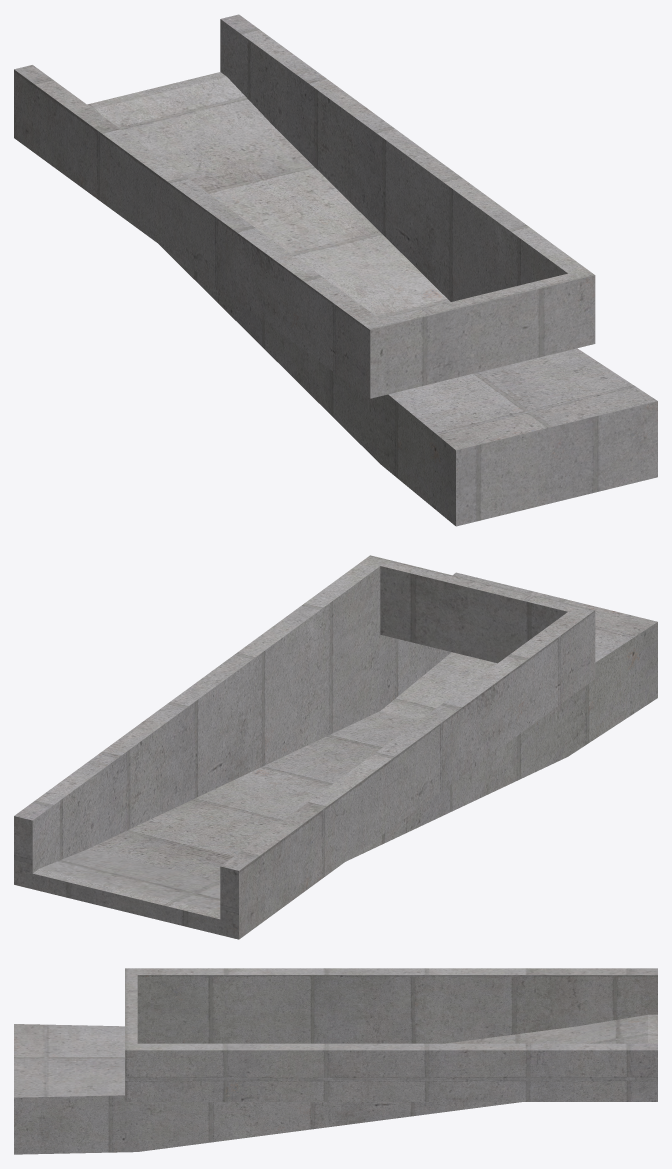
Rendered from builder_16.FBX.
3 views of the same model, one above another, from view 1: azimuth 30°, elevation 25°; view 2: azimuth 150°, elevation 25°; view 3: azimuth 270°, elevation 25° (orthographic). The views are drawn at different scales.
Parts seen in each view (by area): view 1: builder_16; view 2: builder_16; view 3: builder_16.
Part boxes in pixels (x1,y1,x2,y2): builder_16: (14, 14, 657, 526); builder_16: (14, 555, 657, 939); builder_16: (14, 968, 657, 1154).
Bounding box in the file's own units: 4485 × 2760 × 14861.
